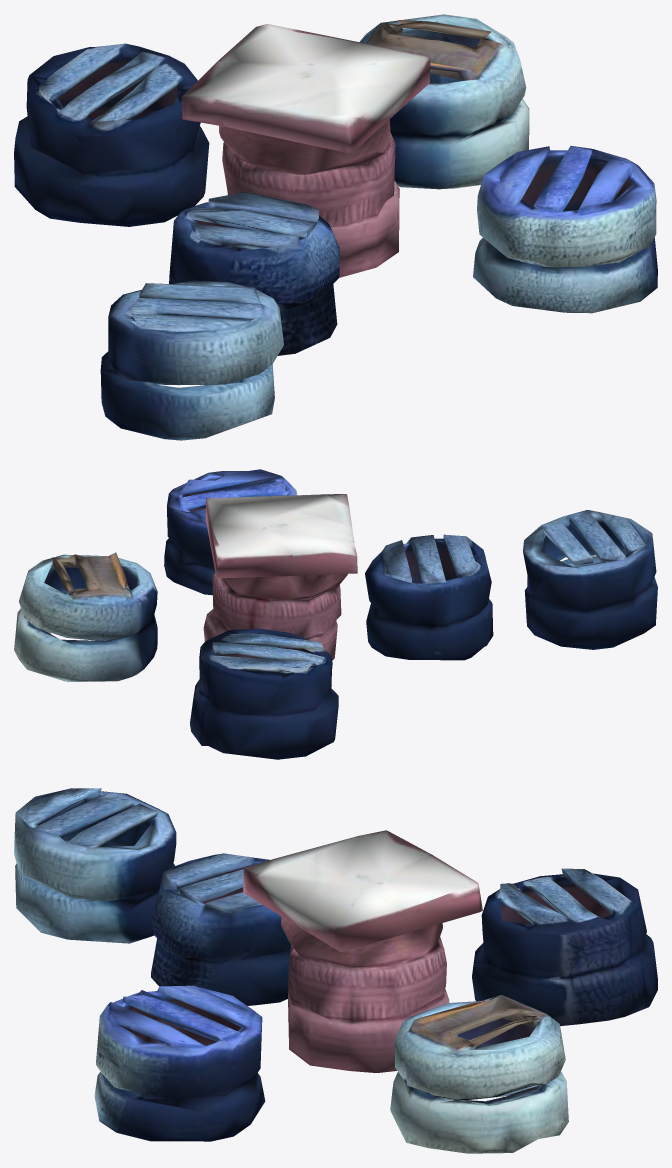
Rendered from sieges-pneus.glb.
3 views of the same model, one above another, from view 1: azimuth 30°, elevation 25°; view 2: azimuth 150°, elevation 25°; view 3: azimuth 270°, elevation 25° (orthographic). The views are drawn at different scales.
Visible parts, largest first — view 1: tripo_node_bdf5198b-a051-4d4c-b64c-2a57acef5d0c; view 2: tripo_node_bdf5198b-a051-4d4c-b64c-2a57acef5d0c; view 3: tripo_node_bdf5198b-a051-4d4c-b64c-2a57acef5d0c.
Boxes of the visible parts, x1,y1,x2,y2 form: tripo_node_bdf5198b-a051-4d4c-b64c-2a57acef5d0c: [14, 14, 657, 440]; tripo_node_bdf5198b-a051-4d4c-b64c-2a57acef5d0c: [14, 469, 657, 759]; tripo_node_bdf5198b-a051-4d4c-b64c-2a57acef5d0c: [14, 788, 657, 1153].
Bounding box in the file's own units: 0.9973 × 0.2685 × 0.9752.
1 material, 1 textured.
